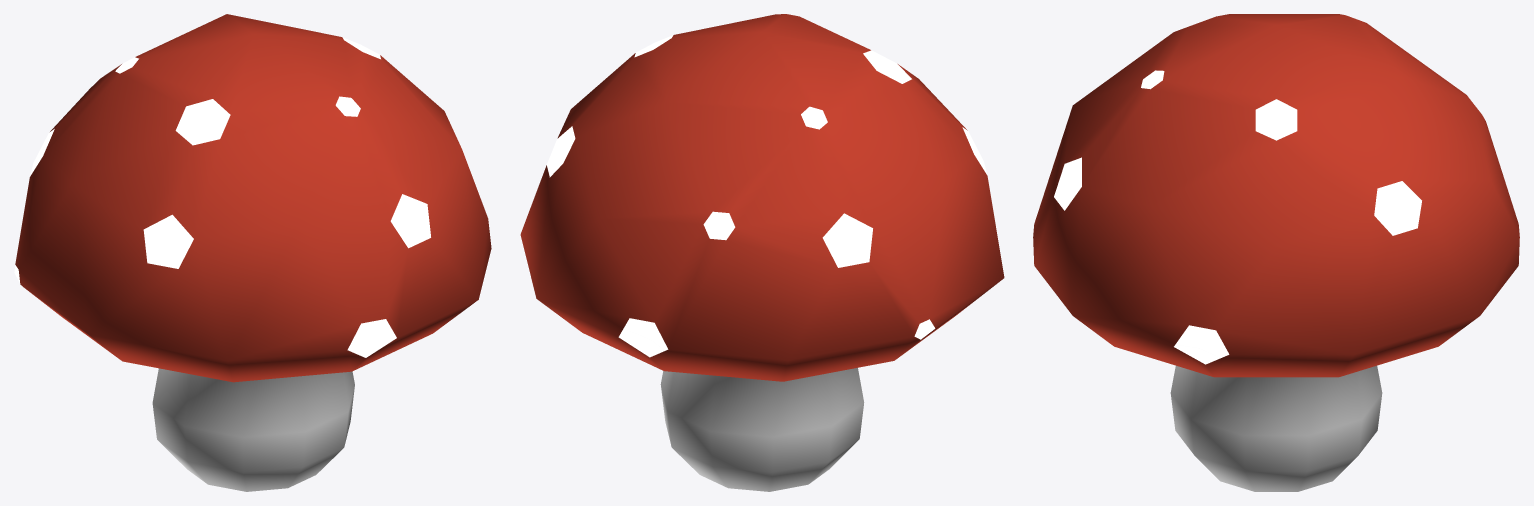
Rendered from mushroomWithDotsSmall.glb.
3 renders of one model, left to right at view 1: azimuth 30°, elevation 25°; view 2: azimuth 150°, elevation 25°; view 3: azimuth 270°, elevation 25°, orthographic. The views are drawn at different scales.
Parts seen in each view (by area): view 1: MushroomWithDotsSmall; view 2: MushroomWithDotsSmall; view 3: MushroomWithDotsSmall.
Part boxes in pixels (x1,y1,x2,y2): MushroomWithDotsSmall: [14, 14, 491, 491]; MushroomWithDotsSmall: [520, 14, 1004, 491]; MushroomWithDotsSmall: [1033, 14, 1519, 491].
Size of the model in its own units: 0.3824 by 0.3865 by 0.3886.
Materials: 2 (1 with a texture image).
